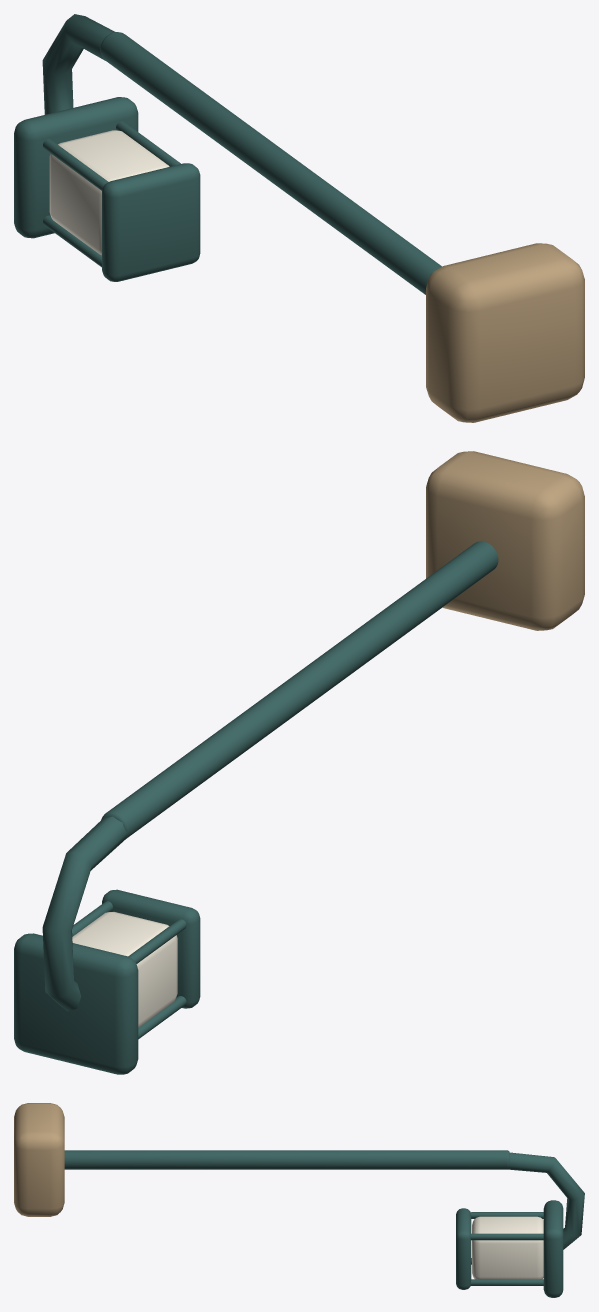
The model's file is BoulevardLamp.fbx.
3 renders of one model, top to bottom at view 1: azimuth 30°, elevation 25°; view 2: azimuth 150°, elevation 25°; view 3: azimuth 270°, elevation 25°, orthographic. The views are drawn at different scales.
Parts seen in each view (by area): view 1: BoulevardLamp; view 2: BoulevardLamp; view 3: BoulevardLamp.
Part boxes in pixels (left/top/right/bottom): BoulevardLamp: left=14, top=14, right=584, bottom=422; BoulevardLamp: left=14, top=451, right=584, bottom=1074; BoulevardLamp: left=14, top=1103, right=584, bottom=1297.
Size of the model in its own units: 0.33 by 0.65 by 2.03.
